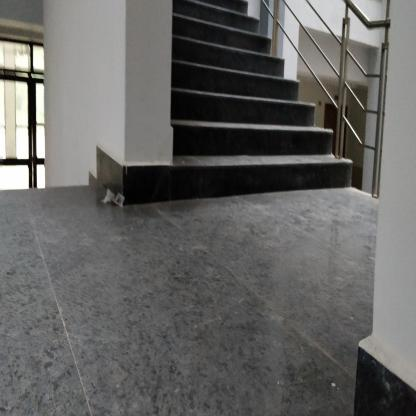stairs: (176, 75, 297, 232)
